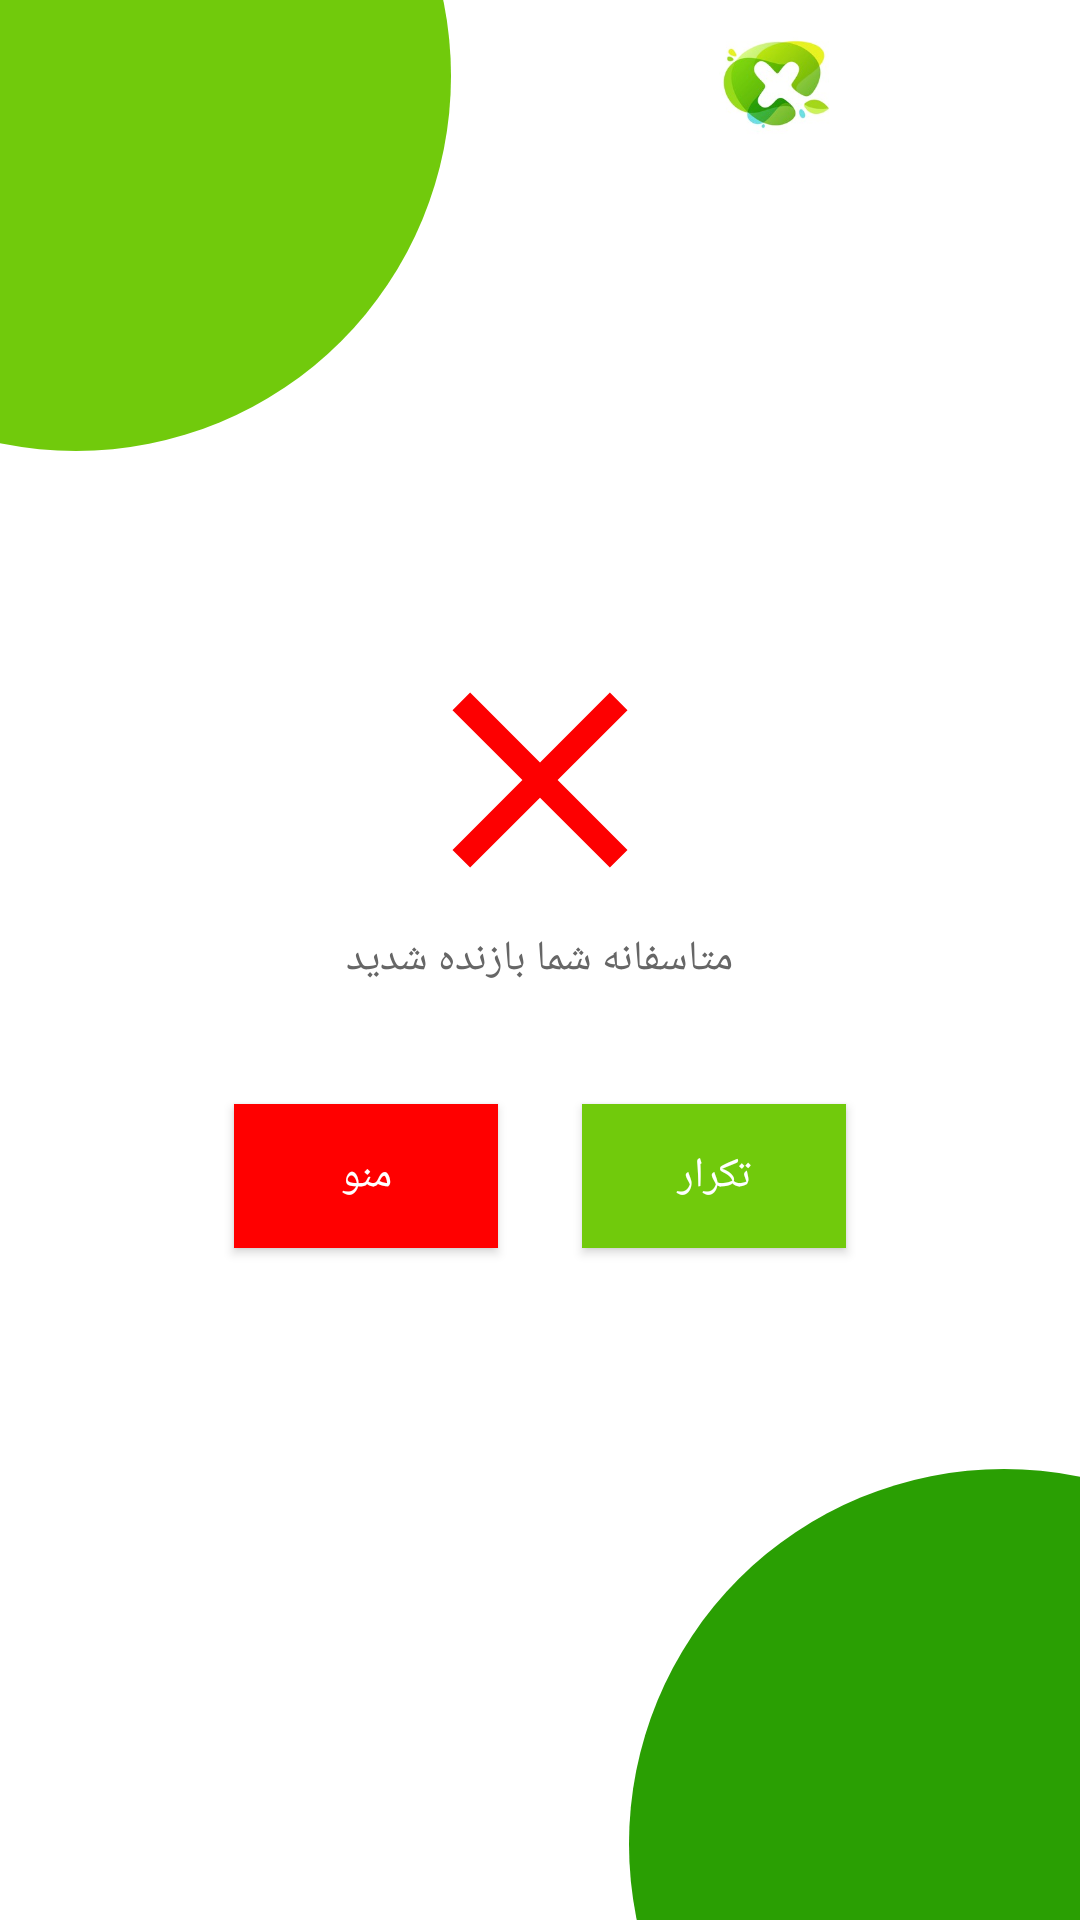

Icon click points for this 1080px x 1920px phone screenshot, format point (x, y):
close: point (540, 780)
